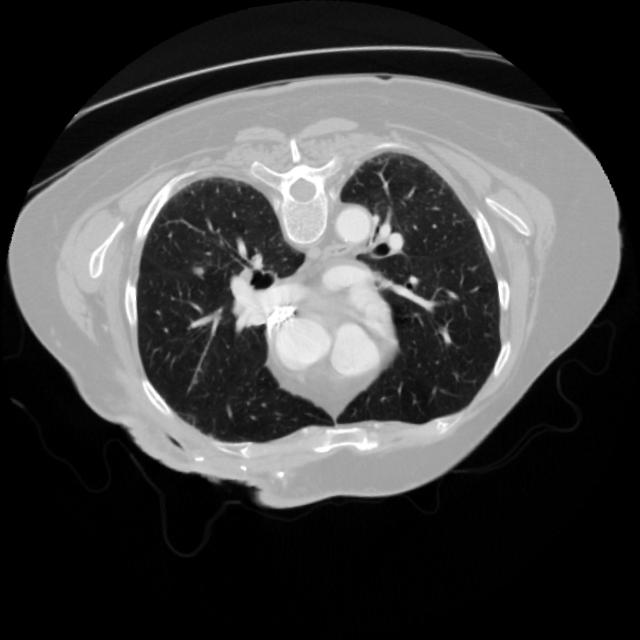nodule: (182, 255, 214, 288)
